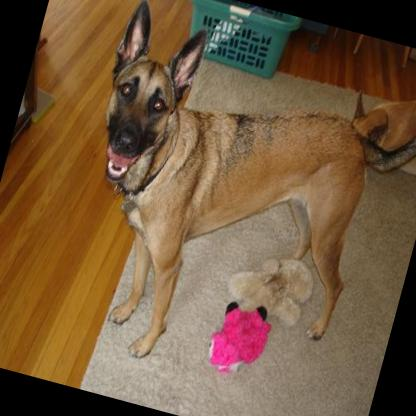malinois: (40, 0, 416, 416)
